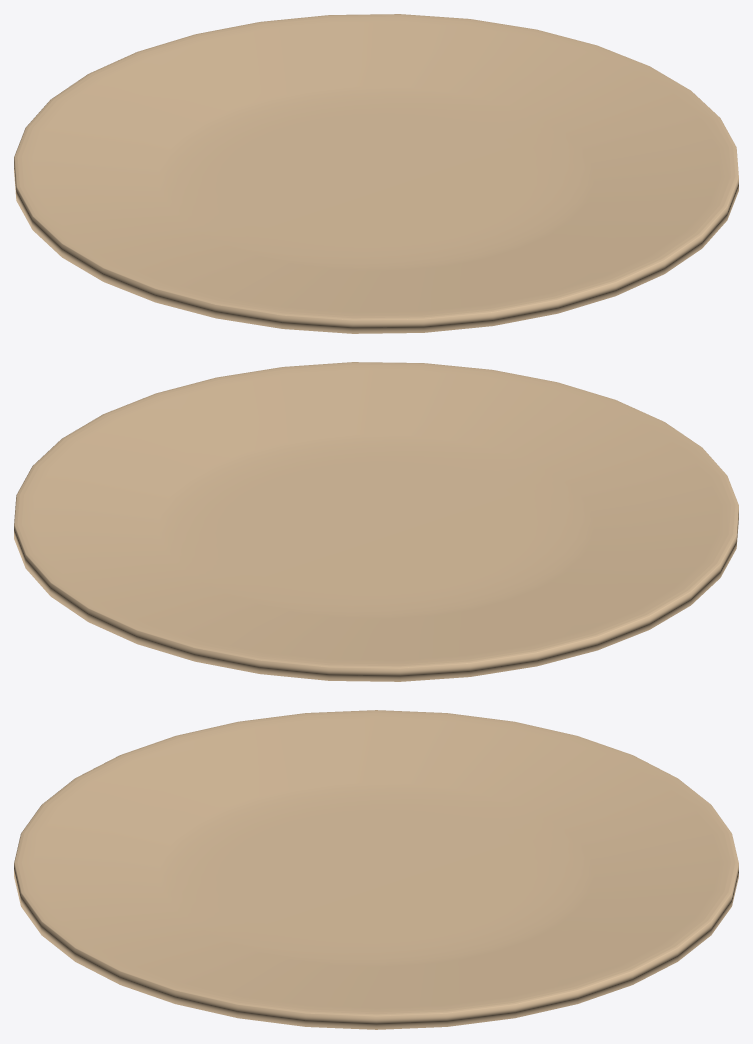
The model's file is Plate.fbx.
3 renders of one model, top to bottom at view 1: azimuth 30°, elevation 25°; view 2: azimuth 150°, elevation 25°; view 3: azimuth 270°, elevation 25°, orthographic.
Parts seen in each view (by area): view 1: Cylinder; view 2: Cylinder; view 3: Cylinder.
Part boxes in pixels (x1,y1,x2,y2): Cylinder: (14, 14, 738, 333); Cylinder: (14, 362, 738, 681); Cylinder: (14, 710, 738, 1029).
Size of the model in its own units: 364 by 25.69 by 364.
